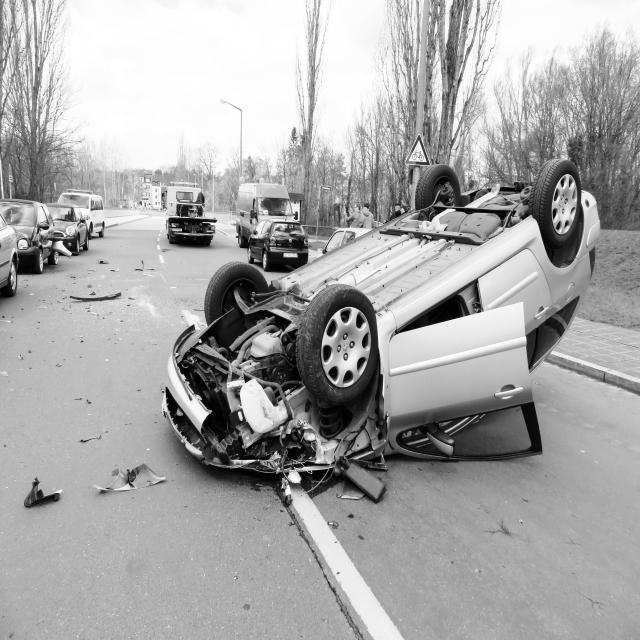crush: (162, 289, 393, 485)
